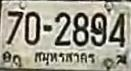0: (24, 10, 39, 44)
2: (54, 11, 70, 45)
4: (108, 12, 124, 46)
7: (7, 10, 22, 44)
8: (72, 11, 88, 45)
9: (90, 12, 106, 46)
SKN: (33, 49, 96, 66)
